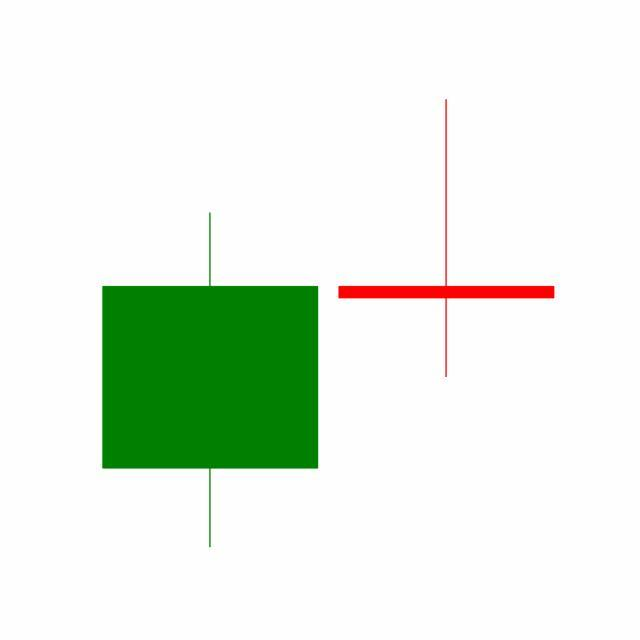Spinning Top: (328, 97, 566, 382)
